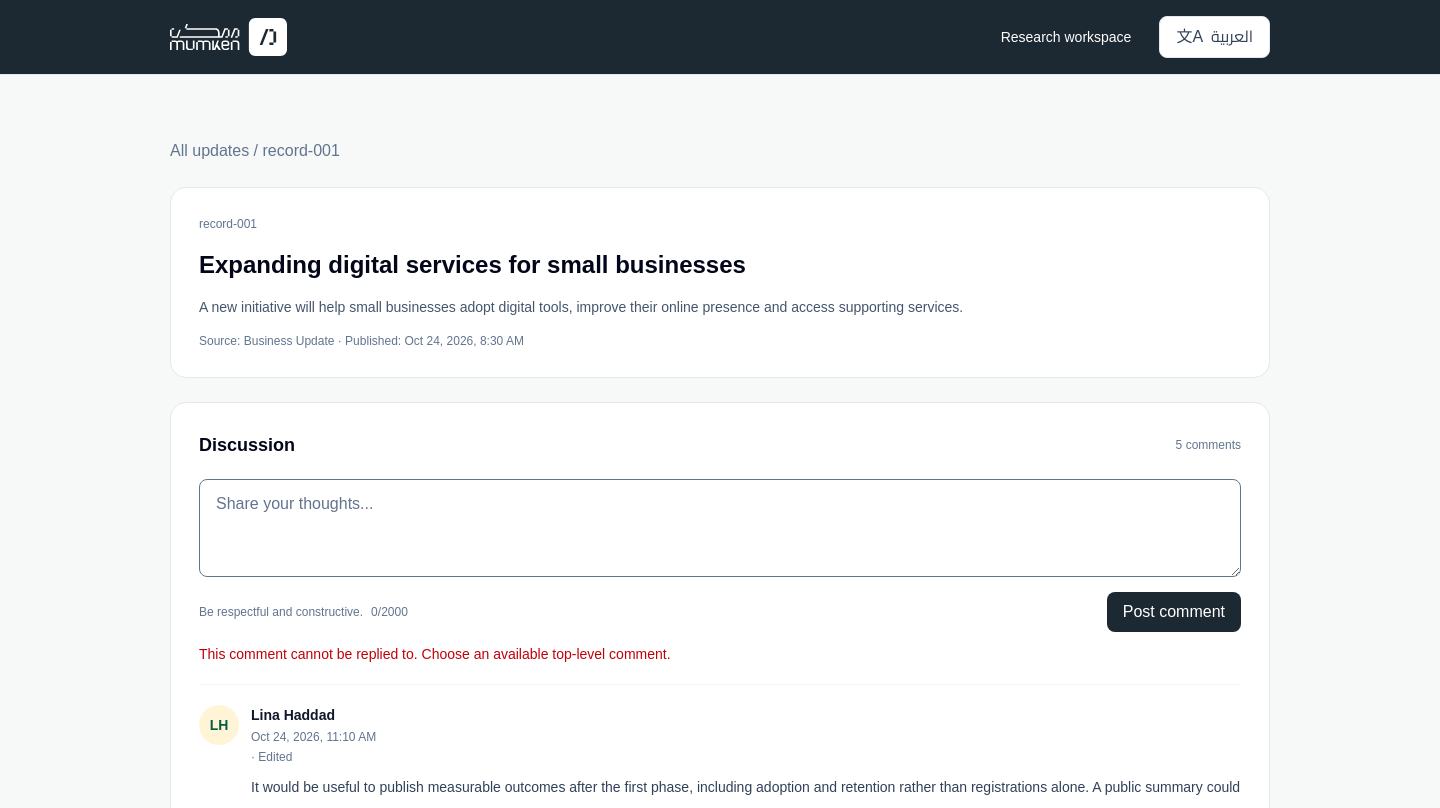
discussion journey › has a banner, main landmark, keyboard skip link and localized invalid-target feedback
Expected: the message "This comment cannot be replied to. Choose an available top-level comment." is shown, x1=199 y1=646 x2=671 y2=662
Click the button "文A العربية". click: {"x": 1215, "y": 37}
box: x1=1159 y1=16 x2=1270 y2=58
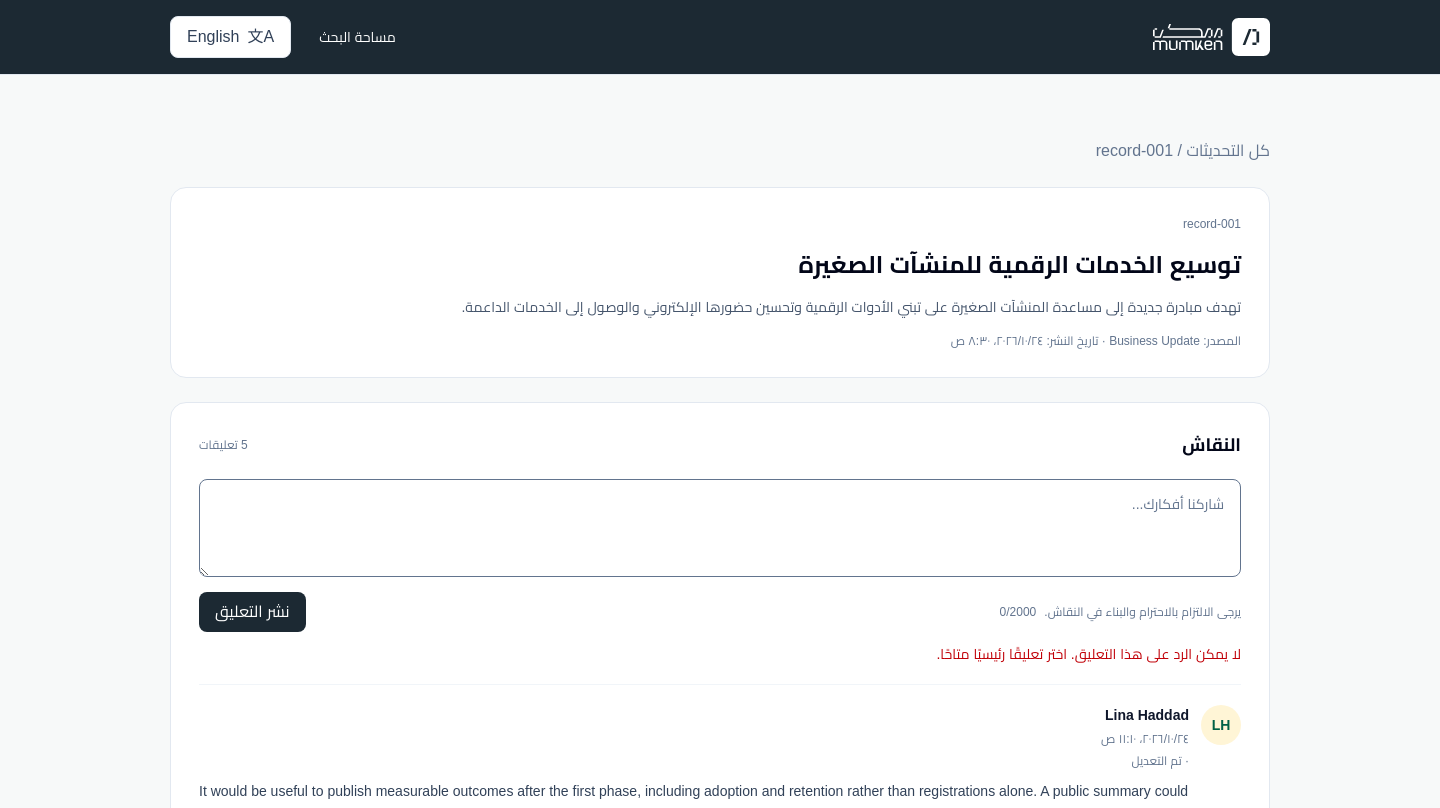
Now the message "لا يمكن الرد على هذا التعليق. اختر تعليقًا رئيسيًا متاحًا." is shown, box x1=936 y1=646 x2=1241 y2=662
